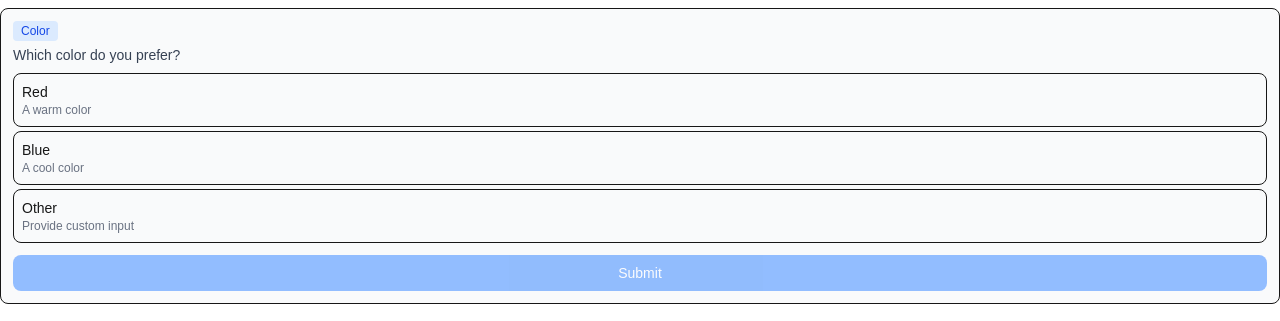
Test case: AskUserQuestionUI › answered state › prevents further interaction after submission
# Submit an answer
Click the button "Red A warm color" at [57, 110], box [13, 73, 1267, 127]
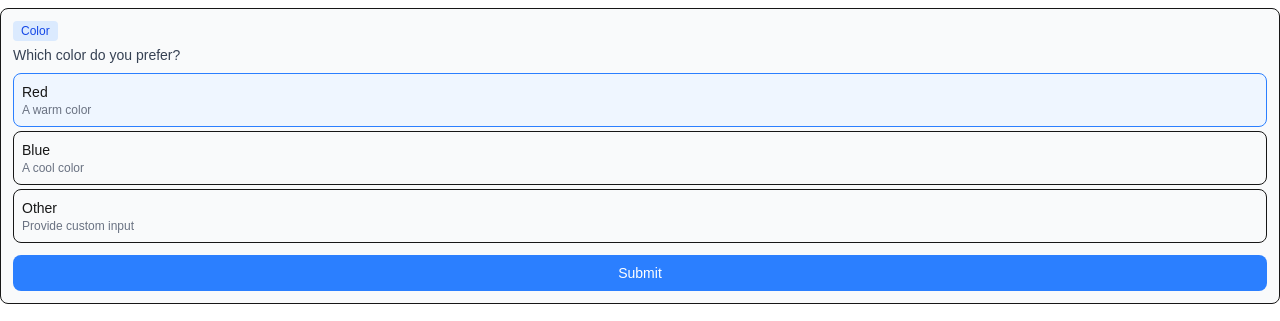
Click the button "Submit" at [640, 273], box [13, 255, 1267, 291]
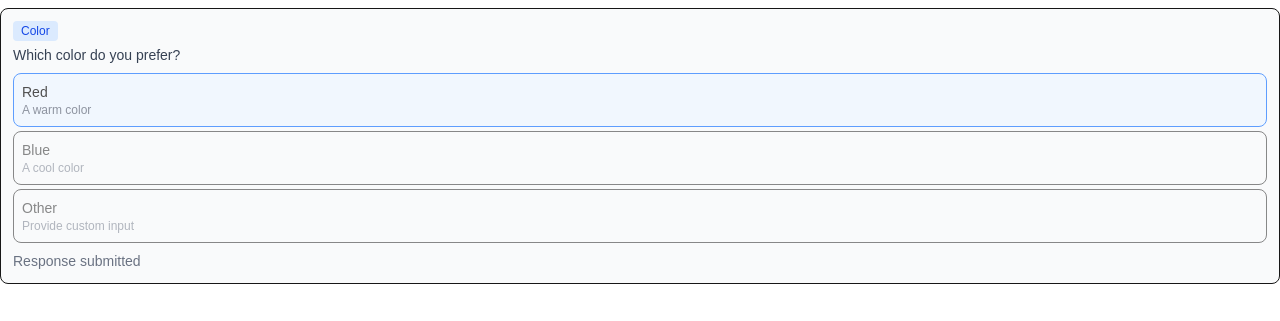
Expected: the button "Blue A cool color" is disabled, [13, 131, 1267, 185]
